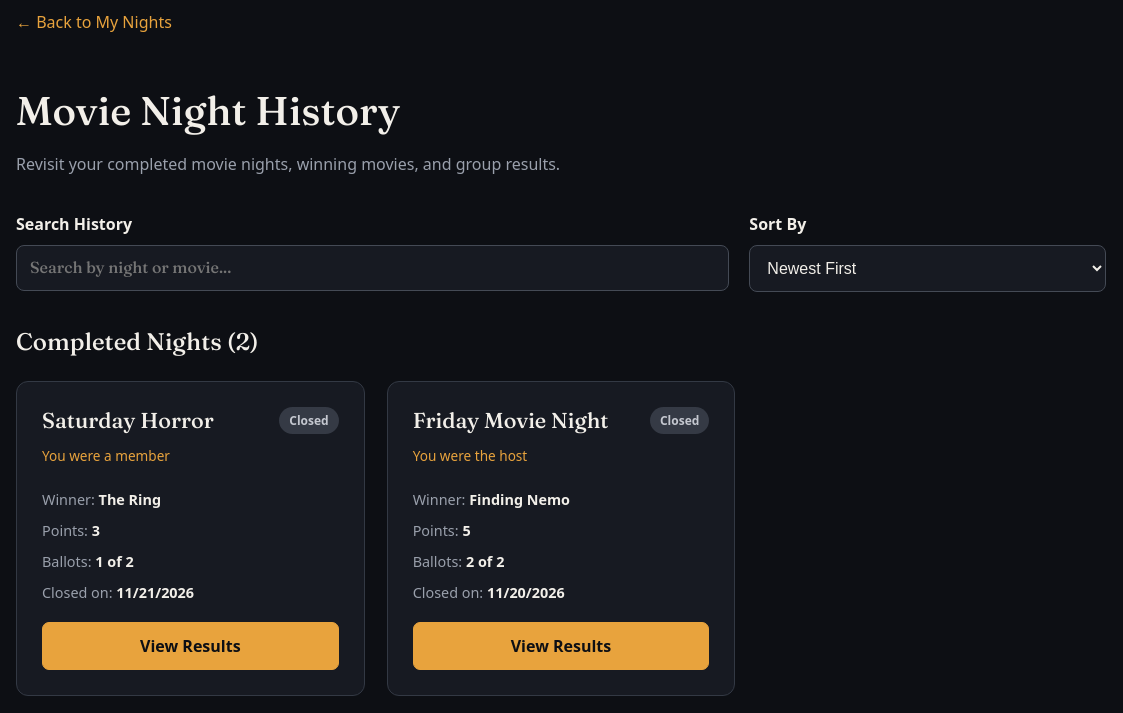
it: searches by winning movie
Check: the heading "Completed Nights (2)" is shown, box [16,327,258,356]
Type "ring" into the search field labelled "Search History" at {"x": 373, "y": 268}, box [16,245,729,291]
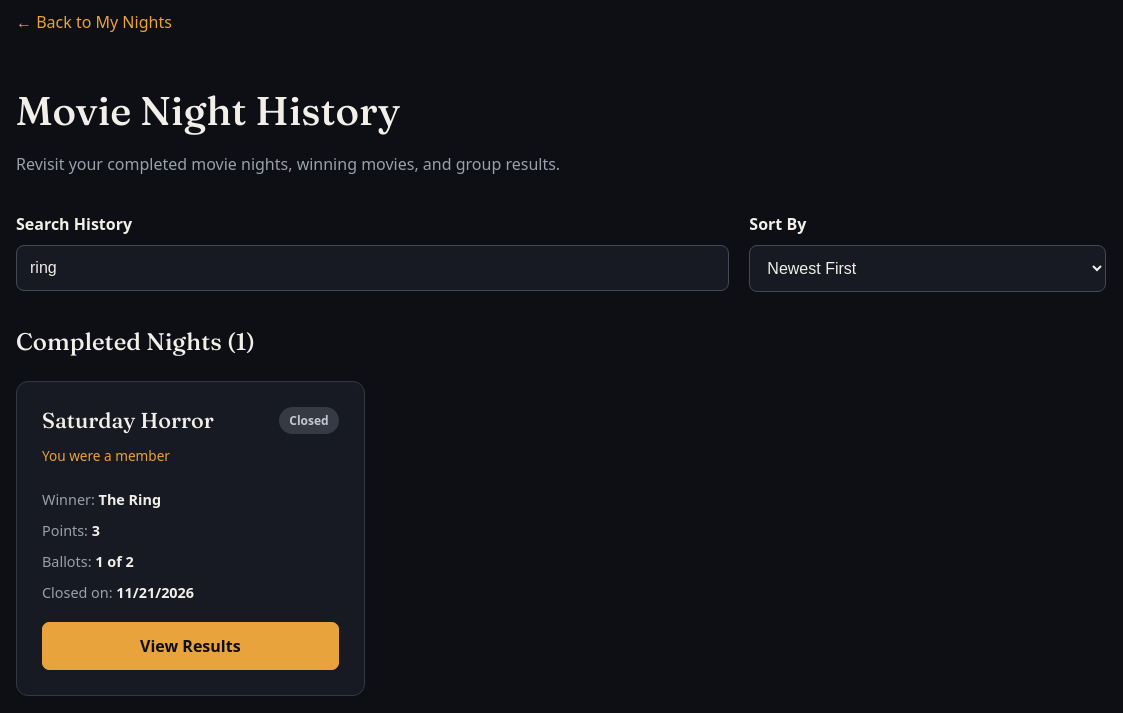
Check: the heading "Saturday Horror" is shown, box [42,407,214,434]
Check: the heading "Completed Nights (1)" is shown, box [16,327,255,356]
Check: the heading "Friday Movie Night" is gone
